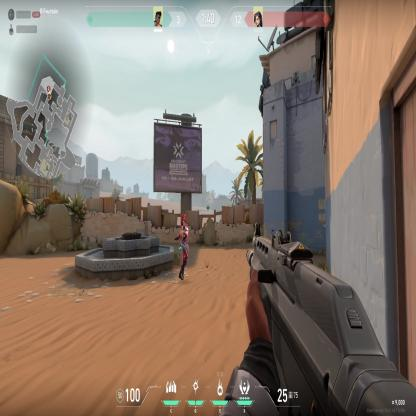enemy: (173, 212, 189, 281)
